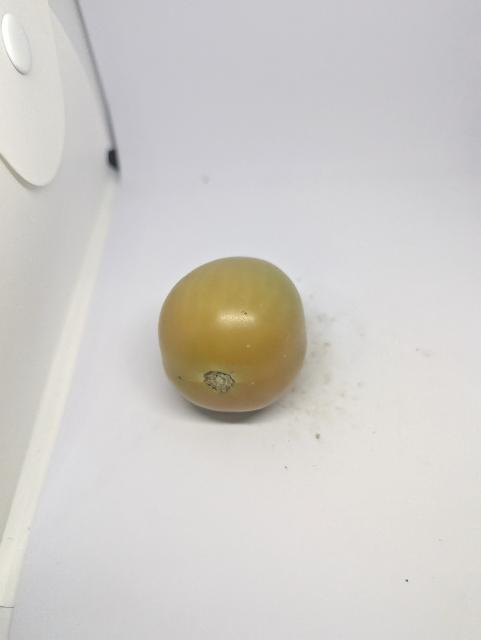breaker: (159, 257, 307, 411)
